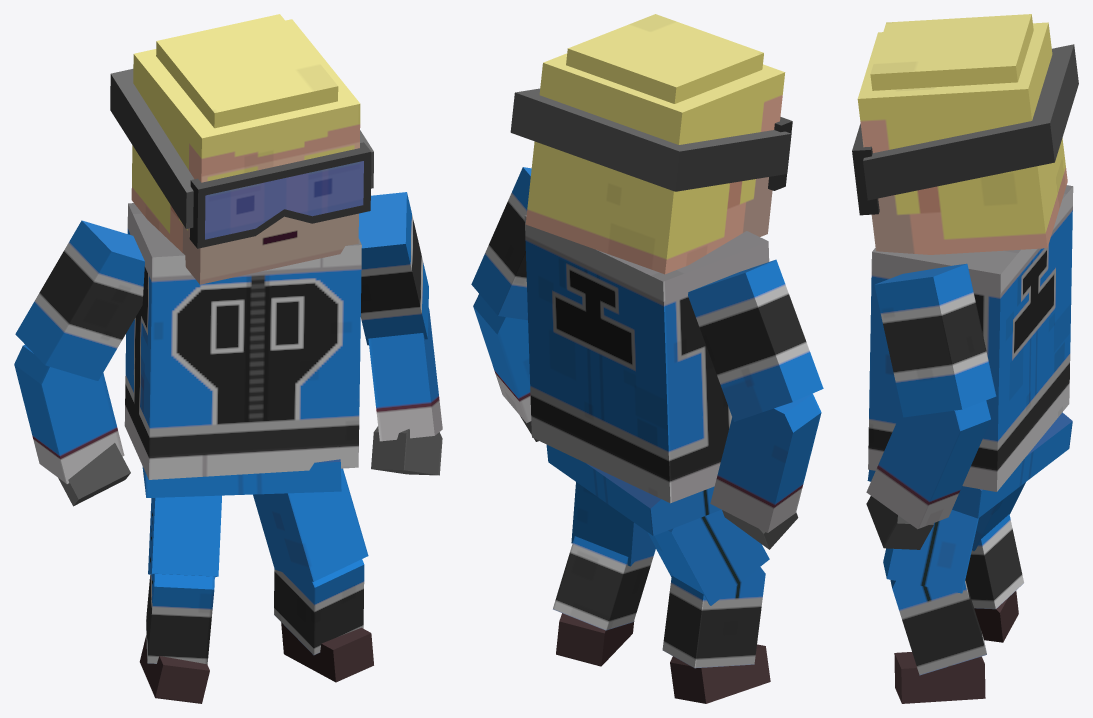
The model's file is Character_Pose_03.fbx.
3 renders of one model, left to right at view 1: azimuth 30°, elevation 25°; view 2: azimuth 150°, elevation 25°; view 3: azimuth 270°, elevation 25°, orthographic.
Parts seen in each view (by area): view 1: Character_Pose_03; view 2: Character_Pose_03; view 3: Character_Pose_03.
Part boxes in pixels (x1,y1,x2,y2): Character_Pose_03: [14, 14, 442, 703]; Character_Pose_03: [471, 14, 823, 703]; Character_Pose_03: [852, 14, 1078, 703].
Size of the model in its own units: 175 by 285 by 93.36.
